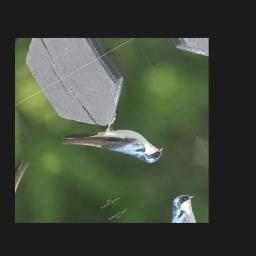Swallow: (58, 97, 168, 196)
